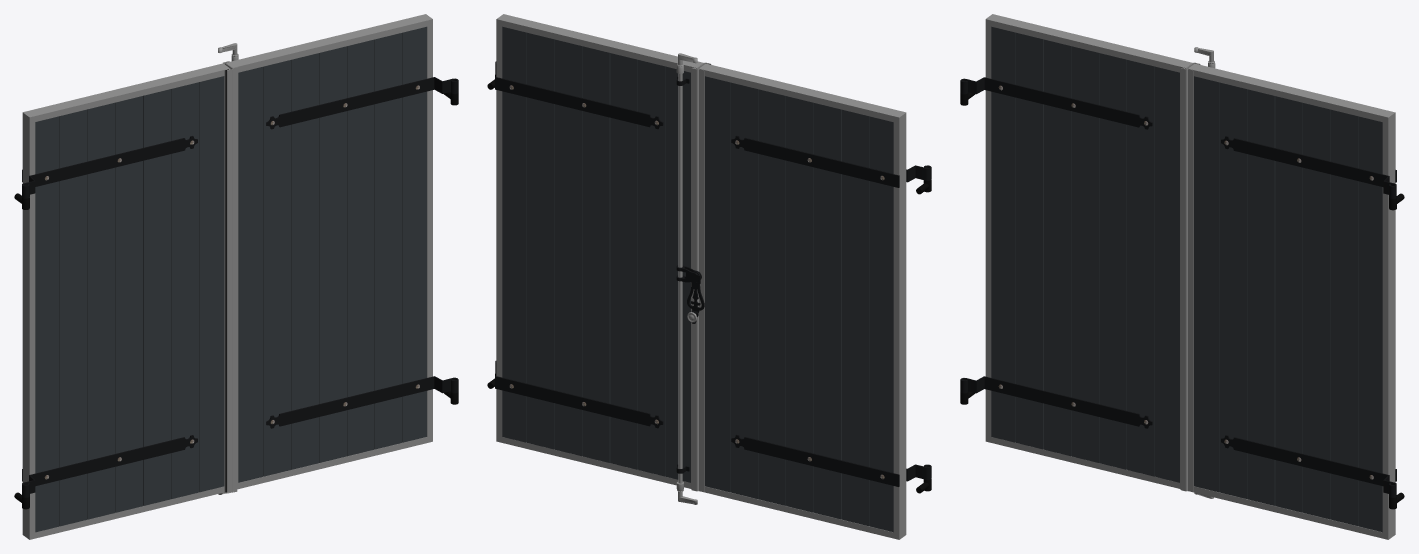
3 views of the same model, side by side, from view 1: azimuth 30°, elevation 25°; view 2: azimuth 150°, elevation 25°; view 3: azimuth 330°, elevation 25° (orthographic).
Parts seen in each view (by area): view 1: Box001, Box003, Rectangle075, Rectangle076, Line003, Plane004, Plane003, Plane002, Plane001, Line001, Line004; view 2: Box001, Box003, Rectangle075, Rectangle076, Line001, Plane006, Plane005, Plane007, Plane008, Circle002; view 3: Box001, Box003, Rectangle076, Rectangle075, Line003, Plane002, Plane001, Plane004, Plane003.
Part boxes in pixels (<box>): Box001: <box>35,76,224,532</box>; Box003: <box>238,26,426,482</box>; Rectangle075: <box>22,63,229,539</box>; Rectangle076: <box>226,14,432,488</box>; Line003: <box>225,63,238,492</box>; Plane004: <box>266,376,458,428</box>; Plane003: <box>266,77,458,129</box>; Plane002: <box>22,435,197,497</box>; Plane001: <box>22,136,197,198</box>; Line001: <box>223,61,230,492</box>; Line004: <box>225,69,228,492</box>; Box001: <box>705,76,893,532</box>; Box003: <box>502,26,690,482</box>; Rectangle075: <box>699,63,906,539</box>; Rectangle076: <box>496,14,703,488</box>; Line001: <box>691,64,704,492</box>; Plane006: <box>731,434,899,486</box>; Plane005: <box>731,135,899,187</box>; Plane007: <box>495,77,663,129</box>; Plane008: <box>495,376,663,428</box>; Circle002: <box>678,73,682,483</box>; Box001: <box>991,26,1179,482</box>; Box003: <box>1194,76,1382,532</box>; Rectangle076: <box>1188,63,1395,539</box>; Rectangle075: <box>985,14,1192,488</box>; Line003: <box>1180,65,1193,492</box>; Plane002: <box>960,376,1152,428</box>; Plane001: <box>960,77,1152,129</box>; Plane004: <box>1221,435,1396,497</box>; Plane003: <box>1221,136,1396,198</box>.
Bounding box in the file's own units: 1500 × 1470 × 151.
6 materials, 3 textured.
